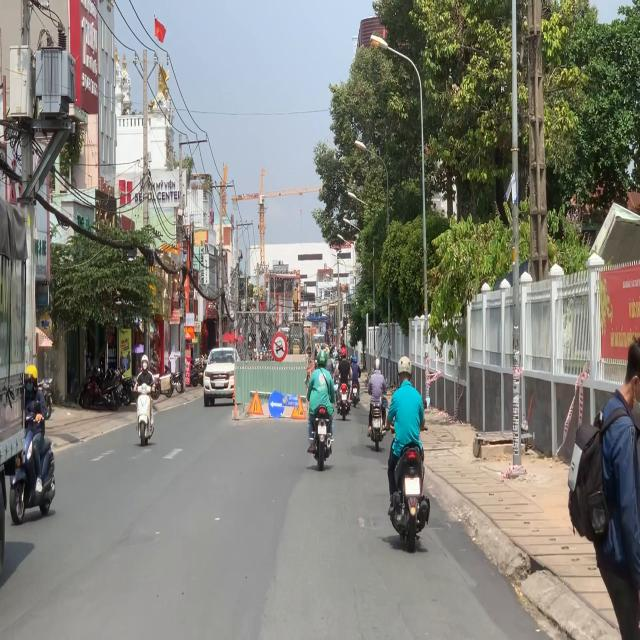Cam con lai: (271, 332, 288, 362)
Nguy hiem: (248, 390, 264, 416), (291, 395, 306, 419)
Re trai: (268, 391, 285, 419)
